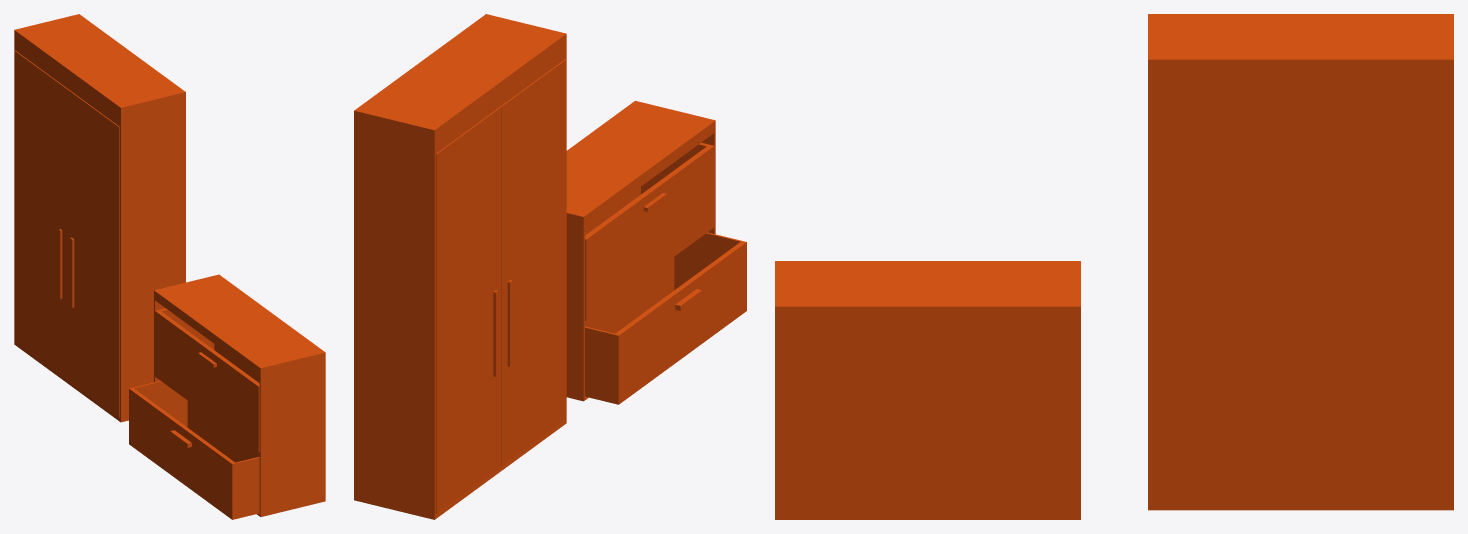
Rendered from armarios e texturas  terror.fbx.
3 renders of one model, left to right at view 1: azimuth 30°, elevation 25°; view 2: azimuth 150°, elevation 25°; view 3: azimuth 270°, elevation 25°, orthographic. The views are drawn at different scales.
Visible parts, largest first — view 1: Cube.003, Cube, Cube.004, Cube.005, Cube.002, Cube.001; view 2: Cube.003, Cube.004, Cube.005, Cube.002, Cube, Cube.001; view 3: Cube.003, Cube.
Part boxes in pixels (left/top/right/bottom): Cube.003: left=14, top=14, right=185, bottom=422; Cube: left=154, top=274, right=325, bottom=516; Cube.004: left=14, top=50, right=67, bottom=378; Cube.005: left=67, top=89, right=119, bottom=417; Cube.002: left=129, top=381, right=259, bottom=519; Cube.001: left=155, top=308, right=259, bottom=452; Cube.003: left=354, top=14, right=566, bottom=519; Cube.004: left=436, top=106, right=501, bottom=513; Cube.005: left=501, top=59, right=566, bottom=466; Cube.002: left=585, top=232, right=746, bottom=404; Cube: left=566, top=100, right=715, bottom=401; Cube.001: left=585, top=142, right=714, bottom=320; Cube.003: left=1148, top=14, right=1453, bottom=510; Cube: left=775, top=261, right=1080, bottom=519.
Size of the model in its own units: 296 by 930 by 1261.
